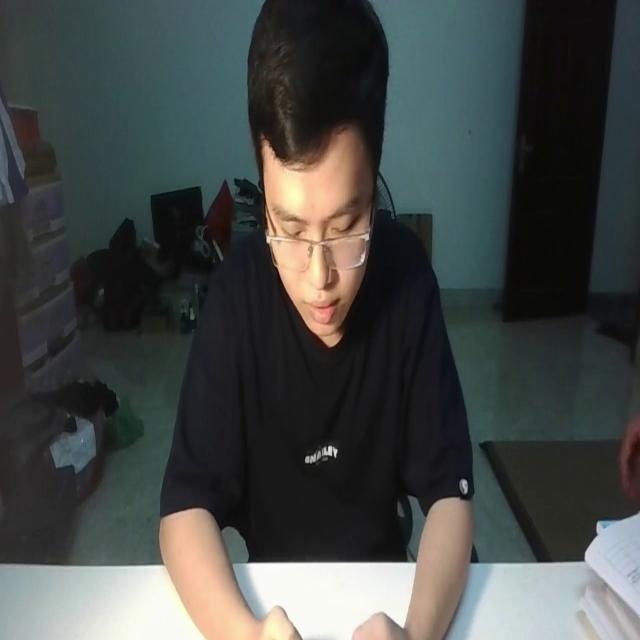student: (158, 0, 474, 640)
